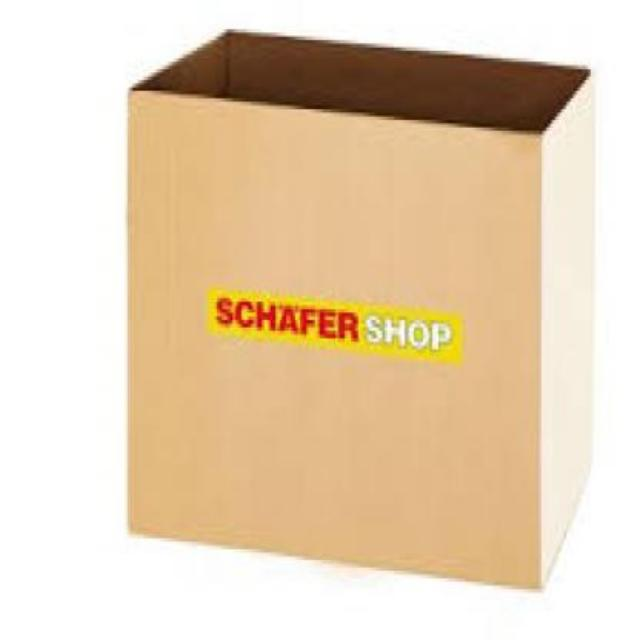cardboard_box: (115, 24, 625, 592)
